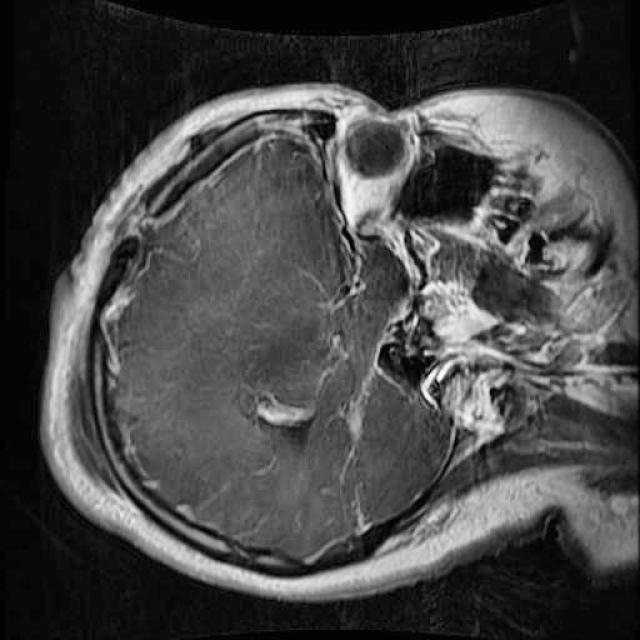Tumor: (226, 369, 342, 456)
